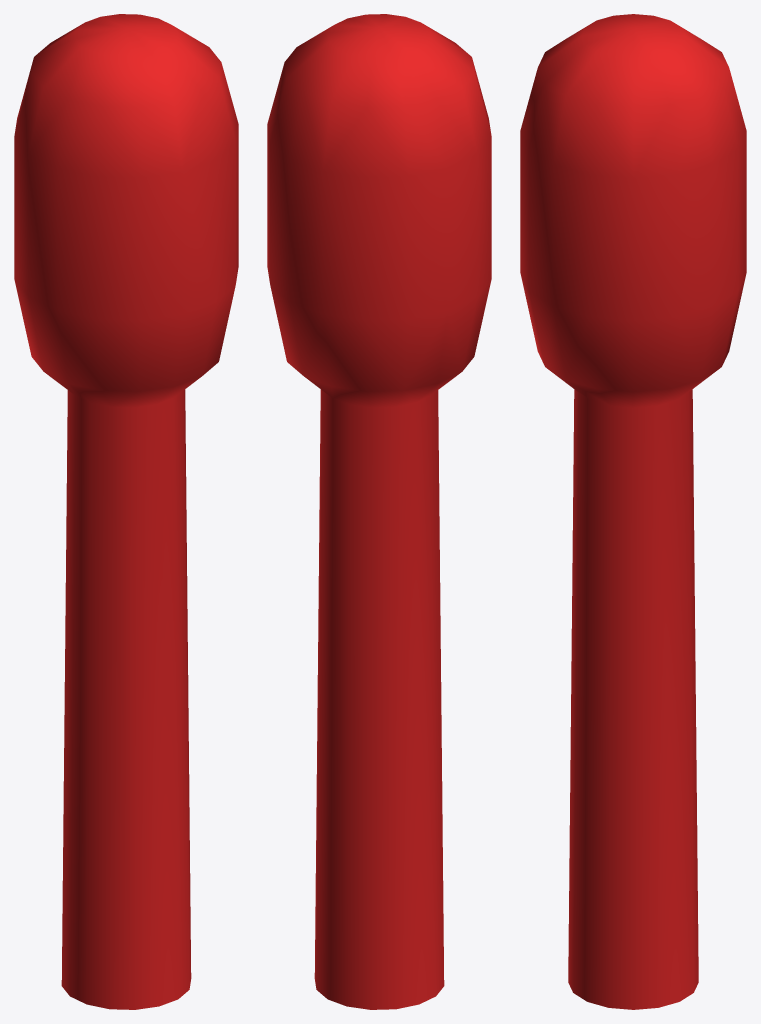
File: EM_StickL.fbx
3 views of the same model, side by side, from view 1: azimuth 30°, elevation 25°; view 2: azimuth 150°, elevation 25°; view 3: azimuth 270°, elevation 25° (orthographic).
Parts seen in each view (by area): view 1: EM_StickL; view 2: EM_StickL; view 3: EM_StickL.
Part boxes in pixels (x1=…): EM_StickL: x1=14, y1=14, x2=238, y2=1009; EM_StickL: x1=267, y1=14, x2=491, y2=1009; EM_StickL: x1=520, y1=14, x2=746, y2=1009.
Bounding box in the file's own units: 0.26 × 1.21 × 0.26.
